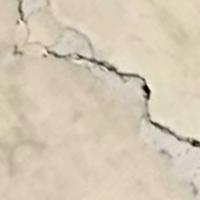crack: (15, 0, 197, 147)
